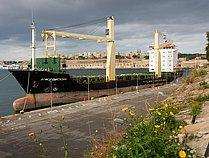Ship: (5, 7, 187, 114)
